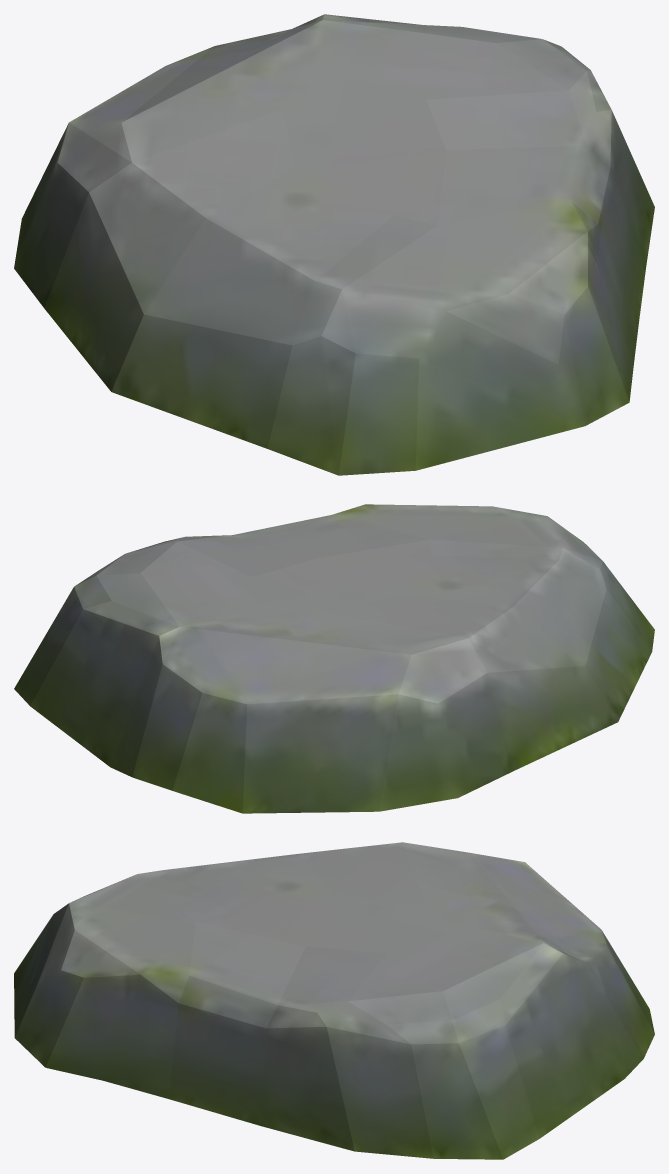
File: pebble-4.glb
The picture shows the model from 3 angles, top to bottom: view 1: azimuth 30°, elevation 25°; view 2: azimuth 150°, elevation 25°; view 3: azimuth 270°, elevation 25°; orthographic projection. The views are drawn at different scales.
Parts seen in each view (by area): view 1: Cube_017_Retopology; view 2: Cube_017_Retopology; view 3: Cube_017_Retopology.
Part boxes in pixels (x1=…): Cube_017_Retopology: x1=14, y1=14, x2=654, y2=475; Cube_017_Retopology: x1=14, y1=504, x2=654, y2=813; Cube_017_Retopology: x1=14, y1=842, x2=654, y2=1159.
Size of the model in its own units: 0.4063 by 0.0994 by 0.4524.
1 material, 1 textured.
